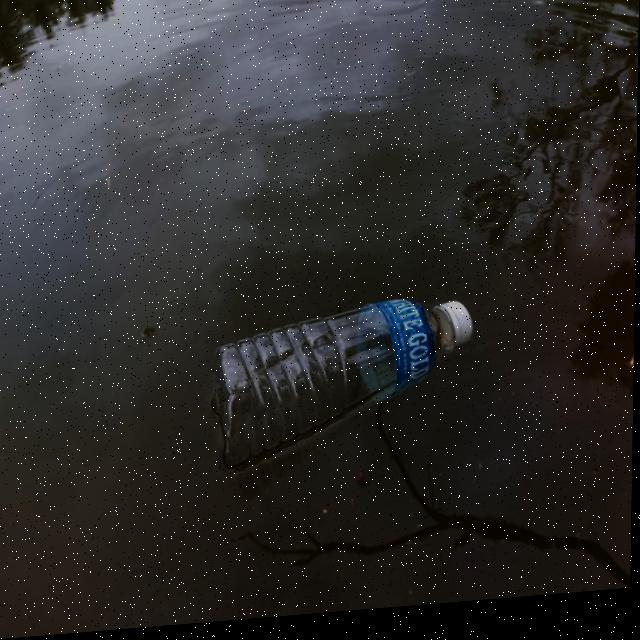waterbottle: (188, 281, 507, 466)
